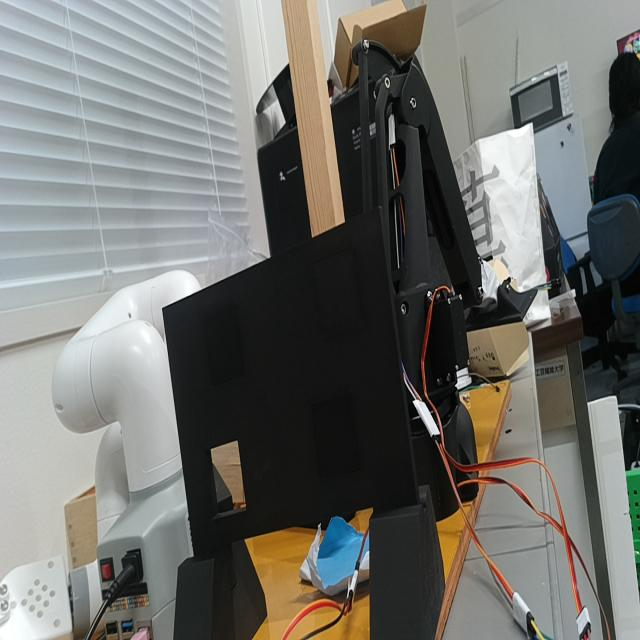Obstacle: (210, 438, 246, 516)
Wall: (162, 212, 412, 557)
